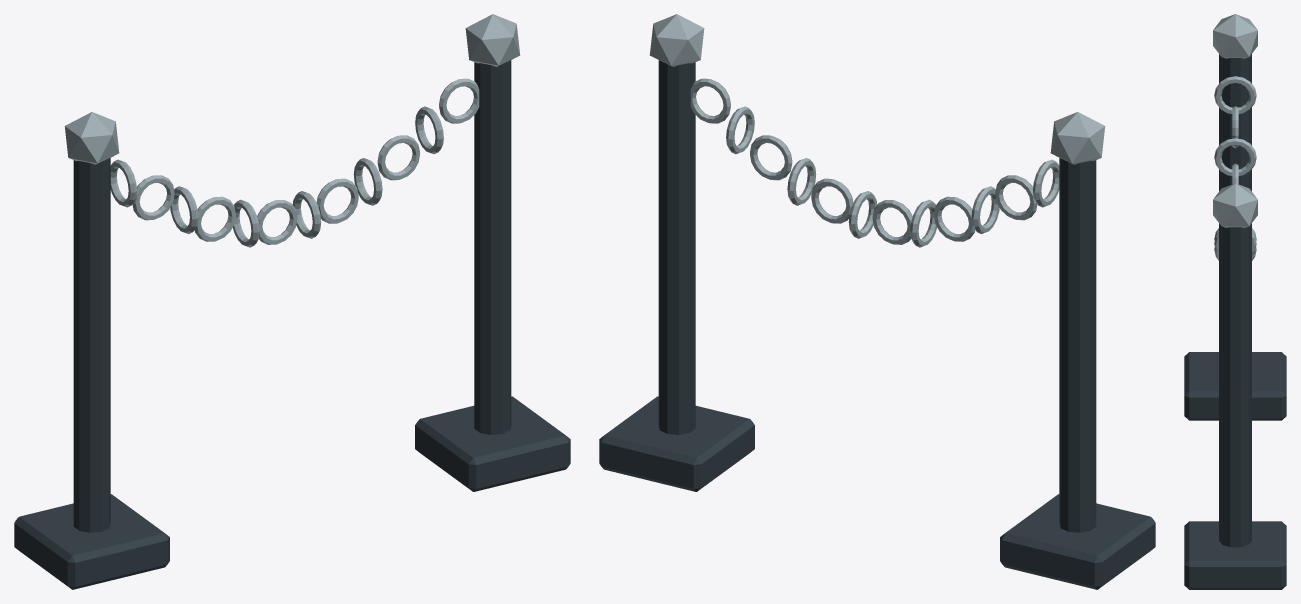
File: Chain_Barrier_Post.glb
3 views of the same model, side by side, from view 1: azimuth 30°, elevation 25°; view 2: azimuth 150°, elevation 25°; view 3: azimuth 270°, elevation 25° (orthographic). The views are drawn at different scales.
Visible parts, largest first — view 1: Chain_Barrier_Post; view 2: Chain_Barrier_Post; view 3: Chain_Barrier_Post.
Boxes of the visible parts, x1=… form: Chain_Barrier_Post: x1=14, y1=14, x2=570, y2=589; Chain_Barrier_Post: x1=599, y1=14, x2=1155, y2=589; Chain_Barrier_Post: x1=1184, y1=14, x2=1286, y2=589.
Bounding box in the file's own units: 1.23 × 1.04 × 0.25.
